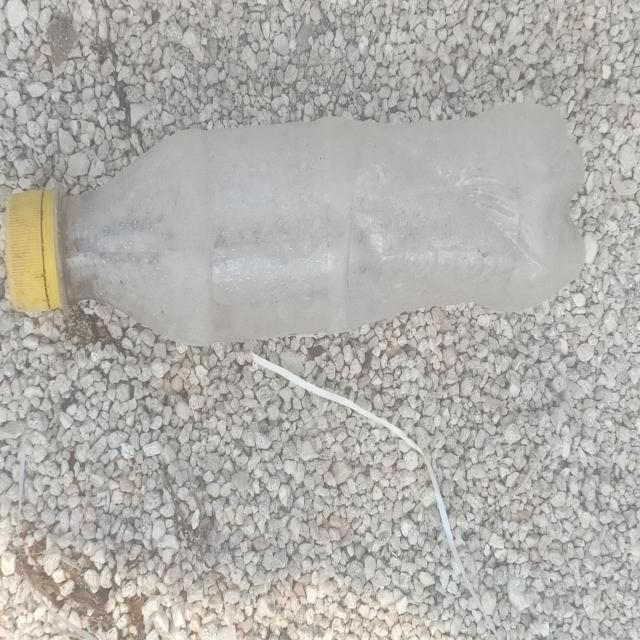plastic_waste: (5, 102, 590, 347)
